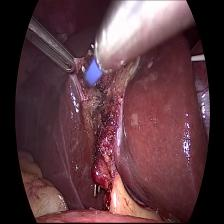Bipolar: (77, 40, 111, 86)
Grasper: (22, 16, 76, 80)
